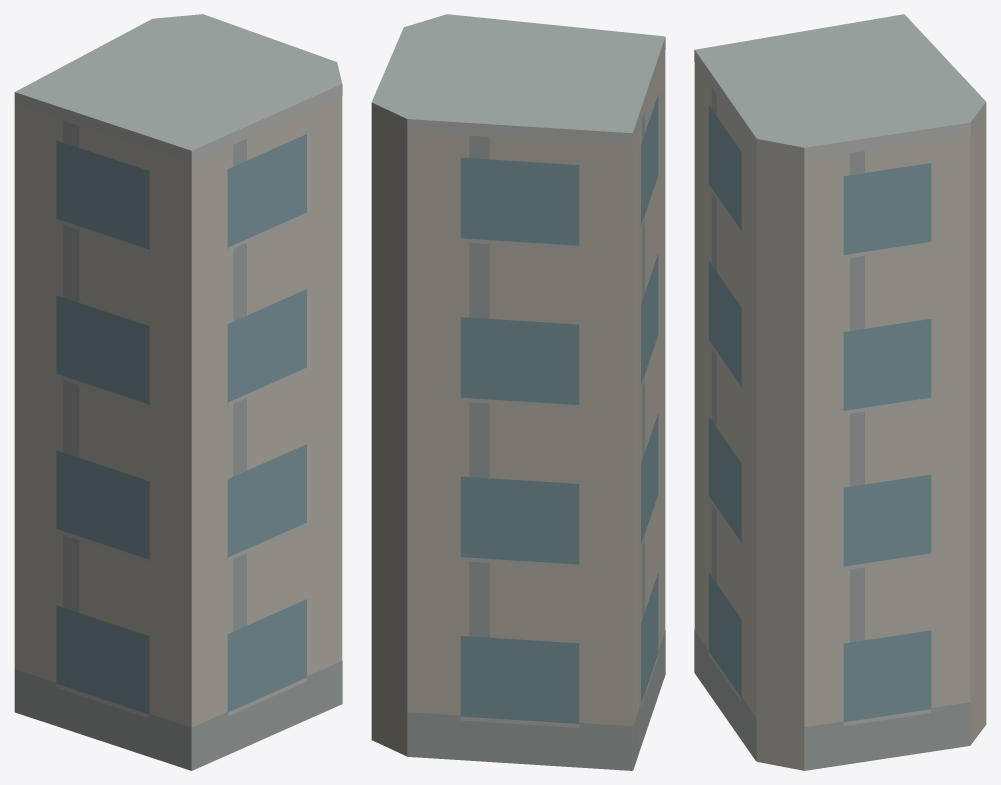
The model's file is survey-upis-32645577.glb.
3 views of the same model, side by side, from view 1: azimuth 30°, elevation 25°; view 2: azimuth 150°, elevation 25°; view 3: azimuth 270°, elevation 25° (orthographic). The views are drawn at different scales.
Parts seen in each view (by area): view 1: survey-upis-32645577.tmp; view 2: survey-upis-32645577.tmp; view 3: survey-upis-32645577.tmp.
Part boxes in pixels (x1=…): survey-upis-32645577.tmp: x1=14, y1=14, x2=342, y2=770; survey-upis-32645577.tmp: x1=371, y1=14, x2=665, y2=770; survey-upis-32645577.tmp: x1=694, y1=14, x2=986, y2=770.
Size of the model in its own units: 5.62 by 12.2 by 5.19.
